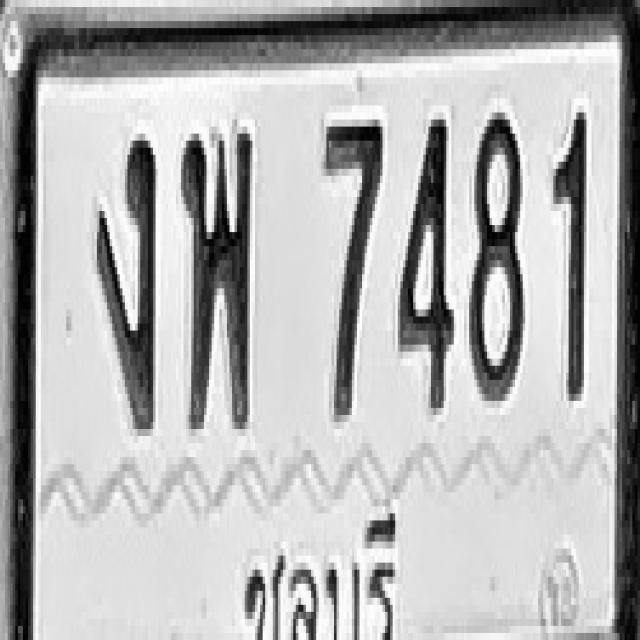1: (551, 105, 586, 401)
16NgorNgu: (94, 134, 156, 429)
39PhorPan: (180, 127, 251, 429)
4: (397, 112, 452, 408)
7: (322, 116, 382, 419)
8: (469, 109, 523, 397)
Chonburi: (235, 501, 414, 640)
